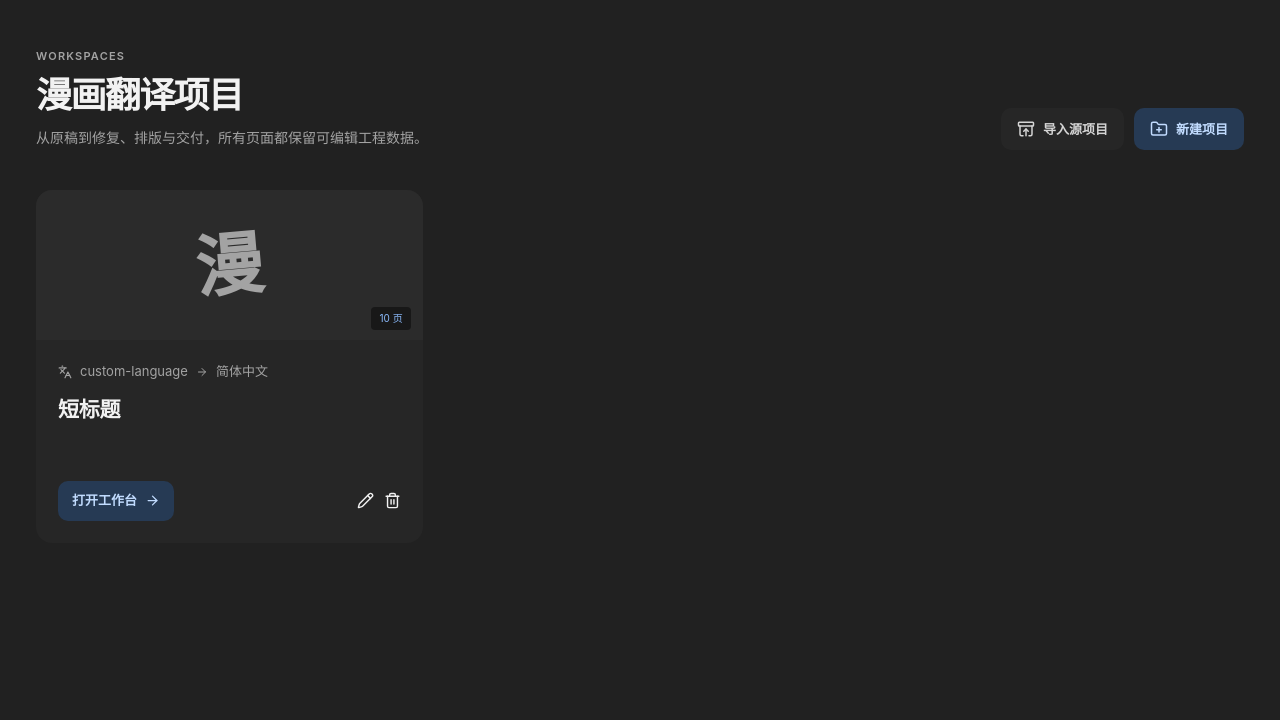
Test case: project details › edits the title and direction without clearing hidden descriptions or legacy language codes
Check: the heading "短标题" is shown, box left=58, top=396, right=120, bottom=422
Step 1. Click the button named "编辑项目 短标题" → (365, 500), box left=357, top=480, right=374, bottom=520
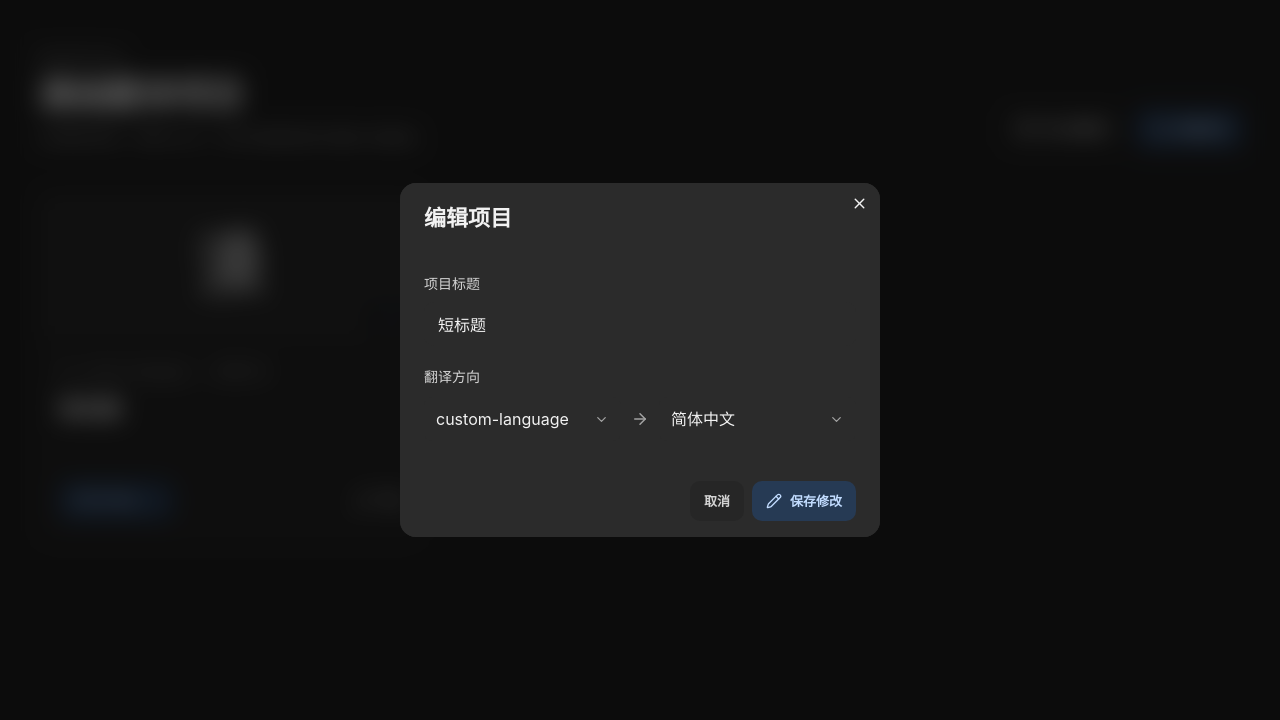
Check: the number of fields is 1
Check: the button with aria-label "原文语言" reads "custom-language", box left=424, top=397, right=621, bottom=441
Check: the button with aria-label "译文语言" reads "简体中文", box left=659, top=397, right=856, bottom=441
Step 2. Replace the text in the field labelled "项目标题" with " 修改后的标题 " → (640, 324), box left=424, top=302, right=856, bottom=346
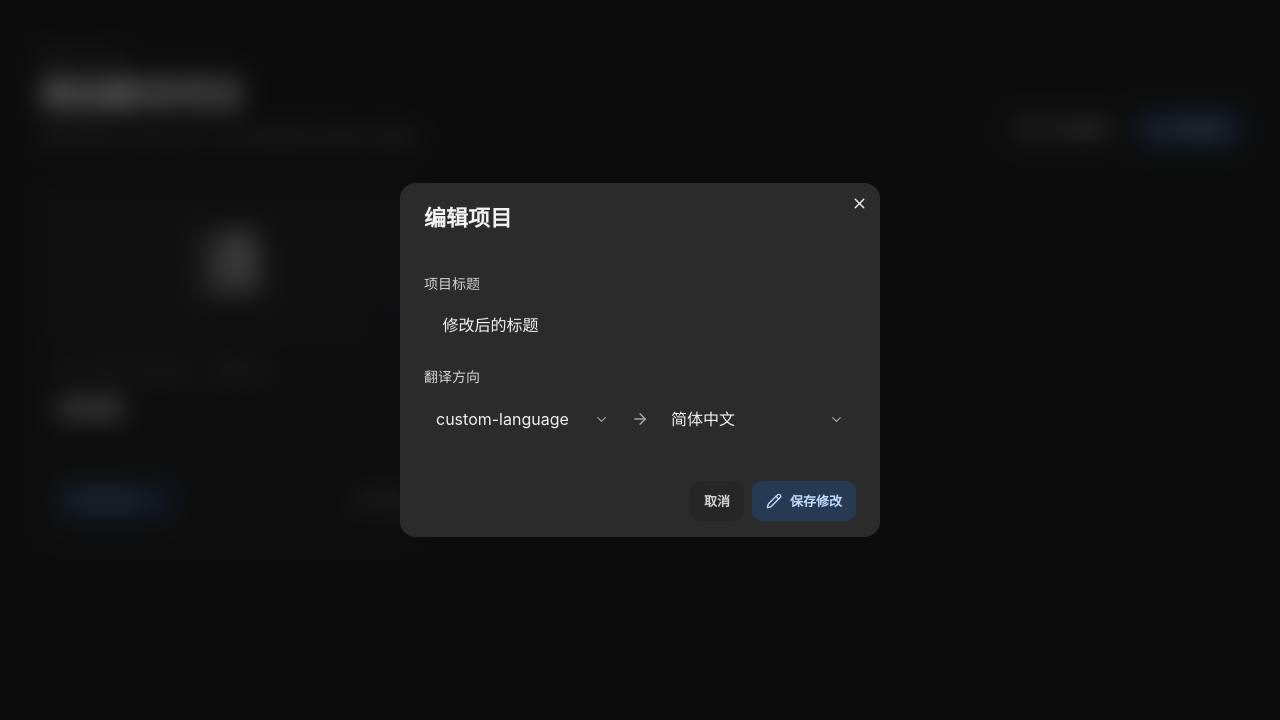
Step 3. Click the button "保存修改" → (804, 501), box left=752, top=481, right=856, bottom=521
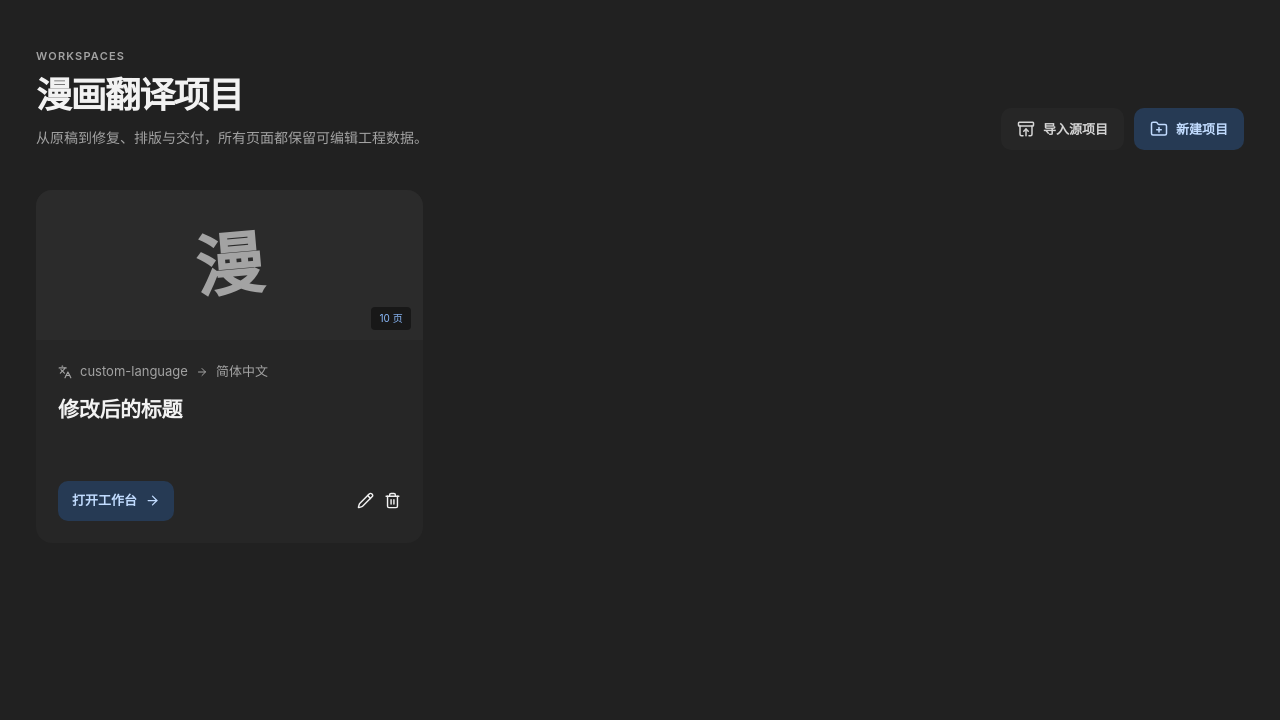
Check: the heading "修改后的标题" is shown, box left=58, top=396, right=182, bottom=422
Check: the dialog is gone
